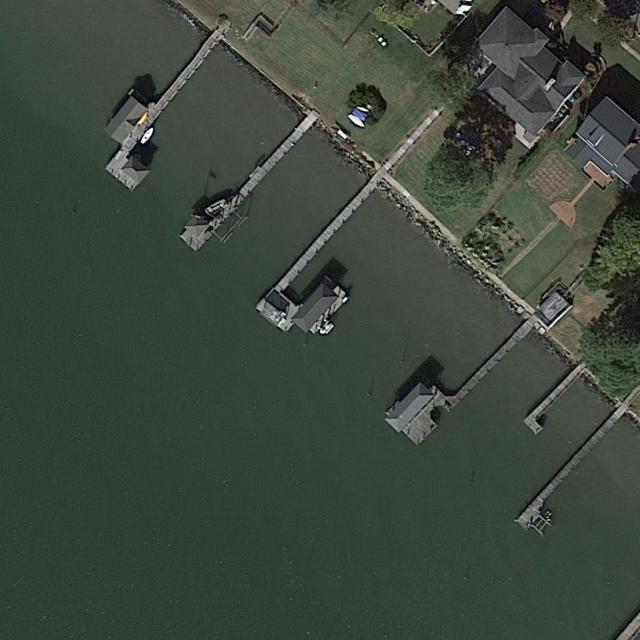ship: (205, 198, 227, 216), (347, 113, 366, 131), (139, 126, 155, 145), (318, 320, 335, 337), (351, 109, 366, 121), (356, 105, 370, 113)
small-vehicle: (449, 132, 477, 158), (563, 89, 583, 110)
